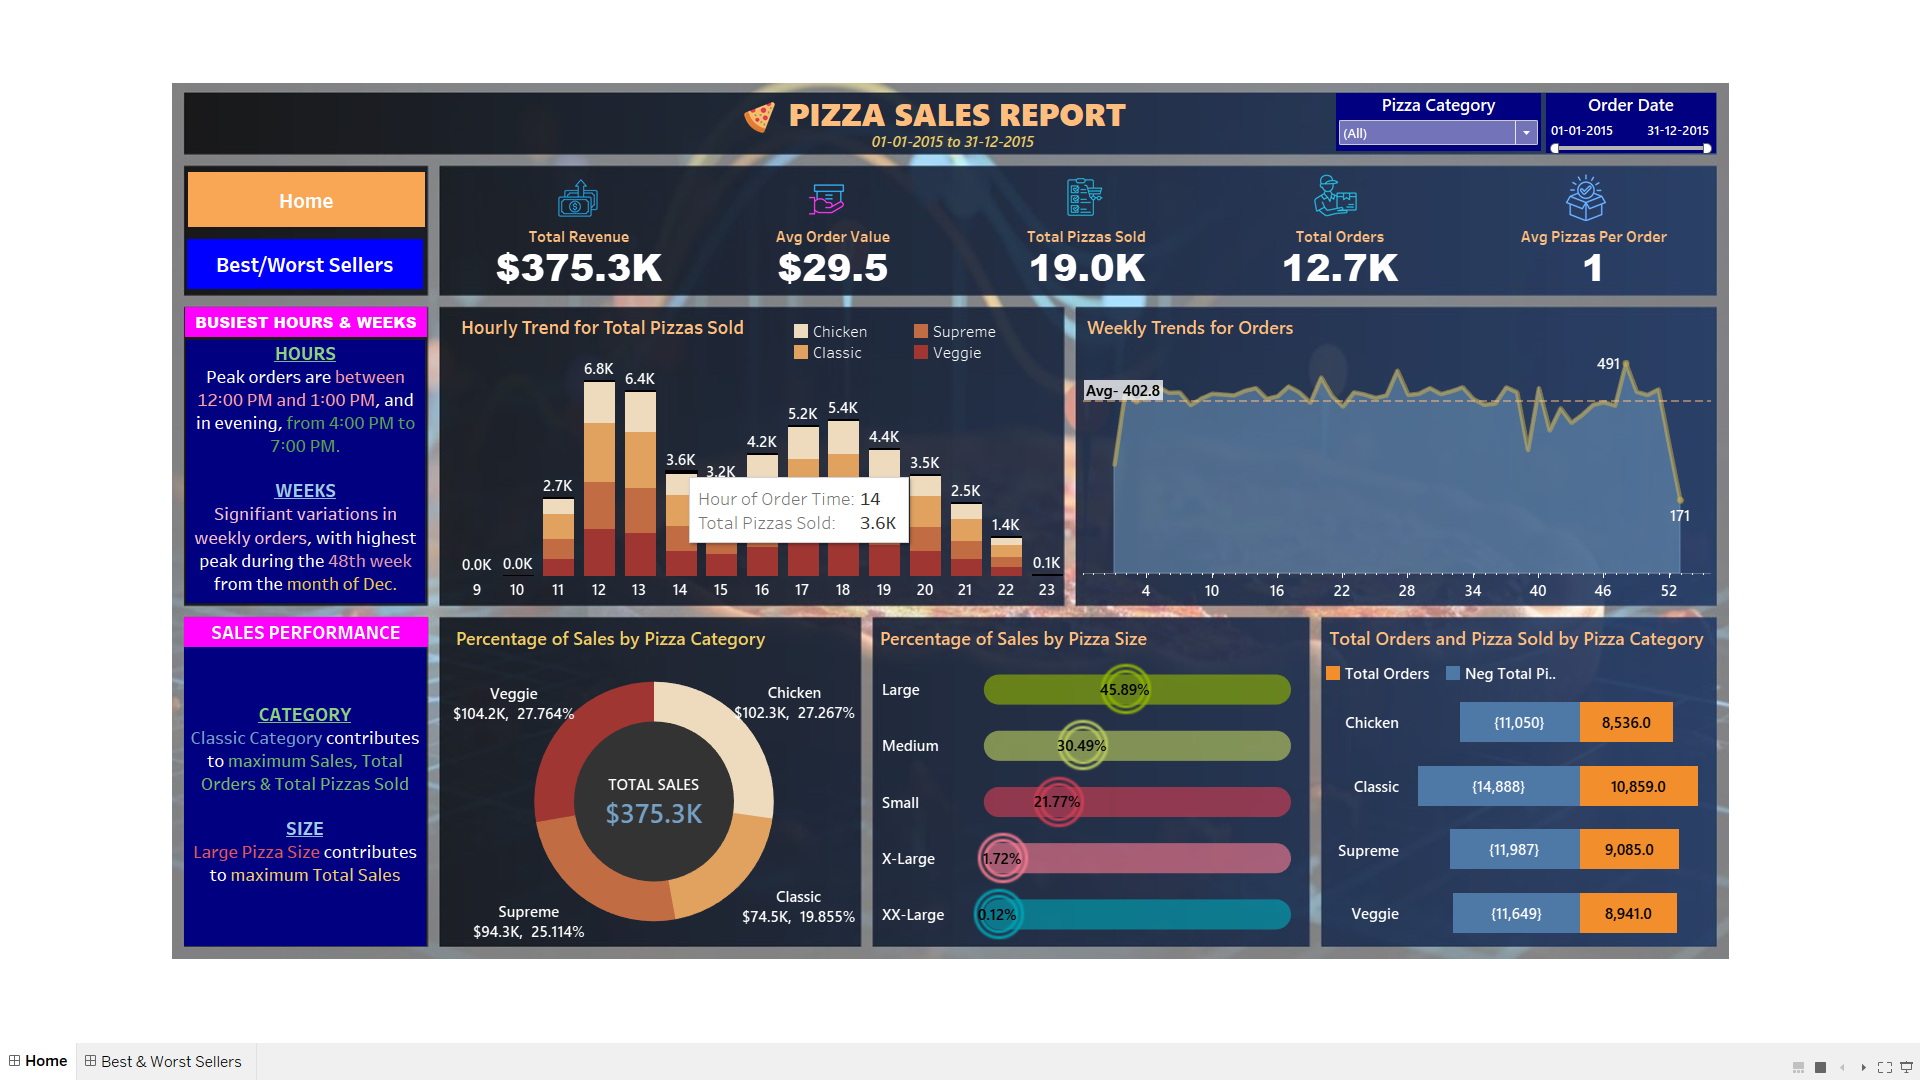

Layout of this report page (visuals, bound fields, positions):
{"tool":"tableau","page":{"name":"Home","canvas":[1600,900],"ordinal":1},"visuals":[{"type":"image","param":"Image/Pizza Tableau 1.jpg","box":[8,8,1584,884]},{"type":"text","box":[625,20,345,43]},{"type":"filter","title":"Sheet 2","param":"[federated.1wnhv0o0sv3yva10nrp8a0km7x5o].[none:pizza_category:nk]","box":[1176,22,205,58]},{"type":"filter","title":"Sheet 2","param":"[federated.1wnhv0o0sv3yva10nrp8a0km7x5o].[none:order_date:qk]","box":[1386,22,170,60]},{"type":"image","param":"Image/pizza-slice.png","box":[580,30,39,32]},{"type":"worksheet","title":"Sheet 7","mark":"Automatic","box":[675,59,235,21]},{"type":"dashboard-object","box":[28,101,237,55]},{"type":"image","param":"Image/delivery-man.png","box":[1152,102,47,44]},{"type":"image","param":"Image/order (1).png","box":[1402,103,47,47]},{"type":"image","param":"Image/profit-growth.png","box":[389,104,57,45]},{"type":"image","param":"Image/order-delivery.png","box":[902,106,45,39]},{"type":"image","param":"Image/shipping-box.png","box":[606,108,121,40]},{"type":"worksheet","title":"Sheet 1","mark":"Automatic","box":[292,155,1269,61]},{"type":"dashboard-object","box":[27,168,236,50]},{"type":"text","box":[25,236,242,30]},{"type":"worksheet","title":"Sheet 2","mark":"Bar","rows":["Calculation_1900800524970618883","Calculation_1900800524970618883"],"cols":["order_time"],"box":[297,239,611,290]},{"type":"worksheet","title":"Sheet 3","mark":"Area","rows":["Calculation_1900800524970180609","Calculation_1900800524970180609"],"cols":["order_date"],"box":[923,240,628,292]},{"type":"legend","title":"Sheet 2","param":"[federated.1wnhv0o0sv3yva10nrp8a0km7x5o].[none:pizza_category:nk]","box":[631,250,267,46]},{"type":"text","box":[26,269,239,263]},{"type":"text","box":[24,546,244,30]},{"type":"worksheet","title":"Sheet 4","mark":"Pie","rows":["Calculation_1900800525039689734","Calculation_1900800525039689734"],"box":[292,551,404,320]},{"type":"worksheet","title":"Sheet 5","mark":"Line","rows":["pizza_size"],"box":[716,551,429,320]},{"type":"text","box":[1166,552,381,30]},{"type":"text","box":[24,576,242,299]},{"type":"legend","title":"Sheet 6","param":"[federated.1wnhv0o0sv3yva10nrp8a0km7x5o].[:Measure Names]","box":[1163,592,383,37]},{"type":"worksheet","title":"Sheet 6","mark":"Automatic","rows":["pizza_category"],"box":[1164,604,388,270]}]}

Visuals, with their boxes on the page's 1600x900 design canvas (x1, y1, x2, y2). These are canvas units, not pixel positions in the 1920x1080 screenshot, which may show the page scaled, cropped or inside an application window:
image: bbox=(8, 8, 1592, 892)
text: bbox=(625, 20, 970, 63)
"Sheet 2" filter: bbox=(1176, 22, 1381, 80)
"Sheet 2" filter: bbox=(1386, 22, 1556, 82)
image: bbox=(580, 30, 619, 62)
"Sheet 7" worksheet: bbox=(675, 59, 910, 80)
dashboard-object: bbox=(28, 101, 265, 156)
image: bbox=(1152, 102, 1199, 146)
image: bbox=(1402, 103, 1449, 150)
image: bbox=(389, 104, 446, 149)
image: bbox=(902, 106, 947, 145)
image: bbox=(606, 108, 727, 148)
"Sheet 1" worksheet: bbox=(292, 155, 1561, 216)
dashboard-object: bbox=(27, 168, 263, 218)
text: bbox=(25, 236, 267, 266)
"Sheet 2" worksheet (Bar marks): bbox=(297, 239, 908, 529)
"Sheet 3" worksheet (Area marks): bbox=(923, 240, 1551, 532)
"Sheet 2" legend: bbox=(631, 250, 898, 296)
text: bbox=(26, 269, 265, 532)
text: bbox=(24, 546, 268, 576)
"Sheet 4" worksheet (Pie marks): bbox=(292, 551, 696, 871)
"Sheet 5" worksheet (Line marks): bbox=(716, 551, 1145, 871)
text: bbox=(1166, 552, 1547, 582)
text: bbox=(24, 576, 266, 875)
"Sheet 6" legend: bbox=(1163, 592, 1546, 629)
"Sheet 6" worksheet: bbox=(1164, 604, 1552, 874)
